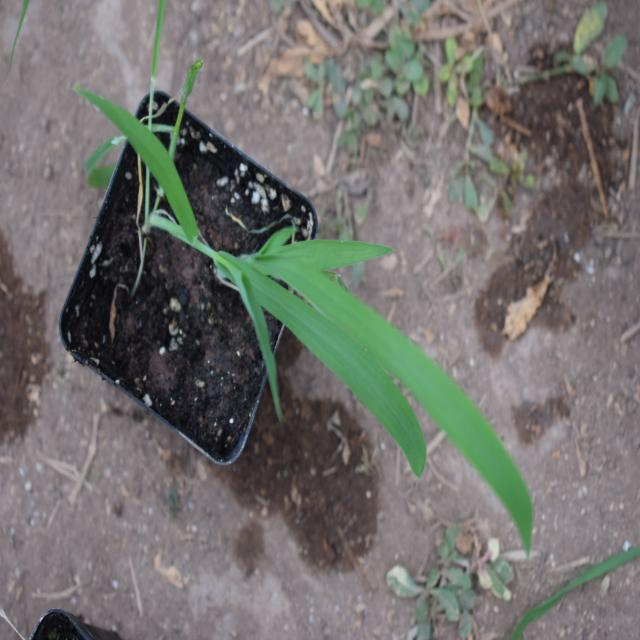crabgrass: (163, 158, 517, 522)
